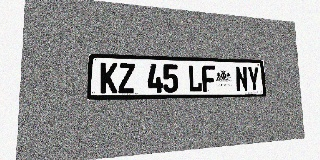4: (147, 64, 163, 93)
5: (163, 64, 178, 93)
F: (202, 65, 216, 92)
K: (100, 63, 118, 94)
L: (188, 65, 202, 92)
N: (235, 66, 248, 92)
Y: (247, 66, 260, 91)
Z: (118, 63, 135, 93)
